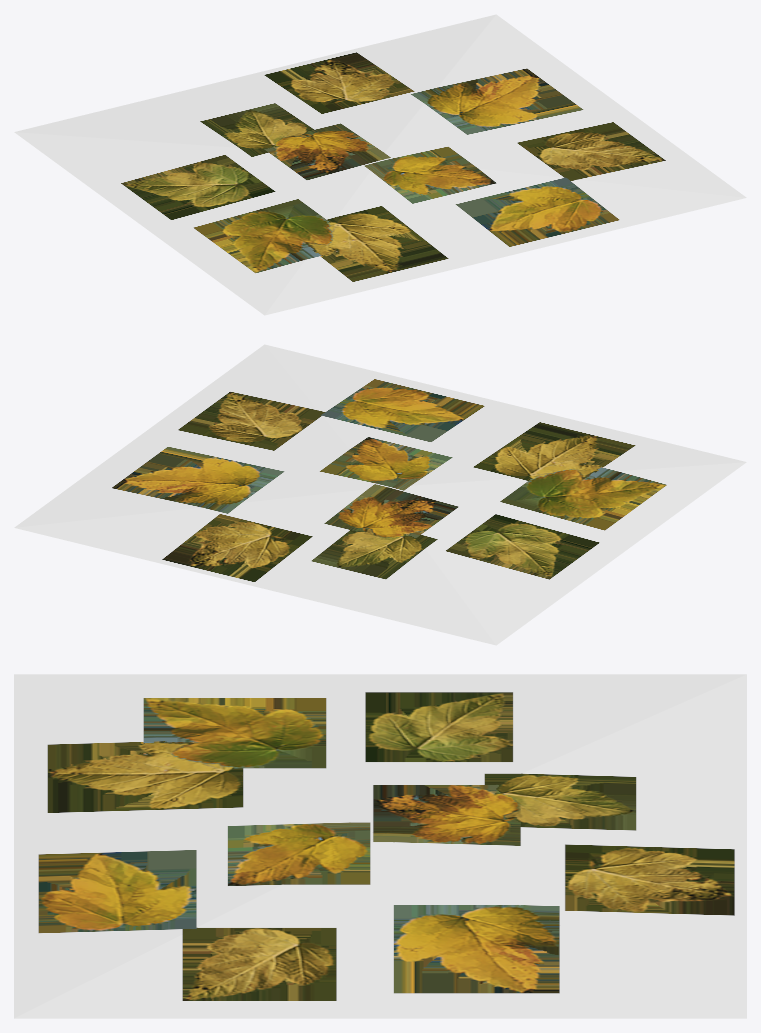
File: Leaves_Floor_01_A.fbx
The picture shows the model from 3 angles, top to bottom: view 1: azimuth 30°, elevation 25°; view 2: azimuth 150°, elevation 25°; view 3: azimuth 270°, elevation 25°; orthographic projection. The views are drawn at different scales.
Parts seen in each view (by area): view 1: Leaves_Floor_01_A; view 2: Leaves_Floor_01_A; view 3: Leaves_Floor_01_A.
Part boxes in pixels (x1=…): Leaves_Floor_01_A: x1=14, y1=14, x2=746, y2=315; Leaves_Floor_01_A: x1=14, y1=344, x2=746, y2=645; Leaves_Floor_01_A: x1=14, y1=674, x2=746, y2=1018.
Size of the model in its own units: 112 by 1.6 by 101.
